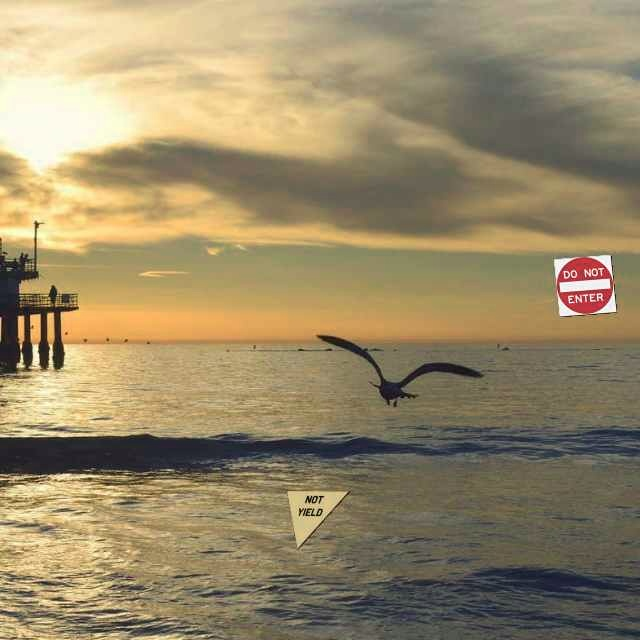DO_NOT_ENTER: (553, 254, 617, 317)
NOT_YIELD: (286, 490, 350, 550)
